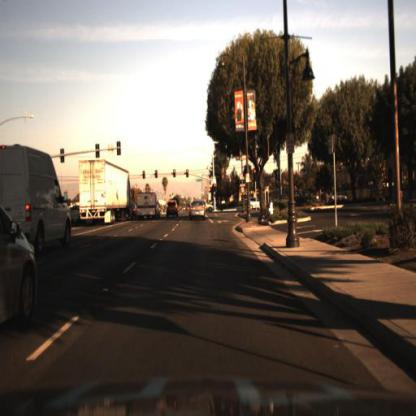car: (1, 141, 74, 251), (137, 189, 162, 222), (186, 197, 210, 224), (328, 186, 355, 204), (243, 195, 266, 216), (166, 198, 180, 221), (205, 200, 221, 218), (204, 198, 216, 215)
trafficLight-Red: (140, 168, 148, 182), (185, 167, 191, 182), (173, 166, 179, 179), (141, 168, 148, 179), (153, 170, 159, 182), (173, 168, 179, 180), (212, 183, 218, 195), (154, 167, 160, 178), (186, 167, 191, 180)
truck: (74, 156, 136, 226)
